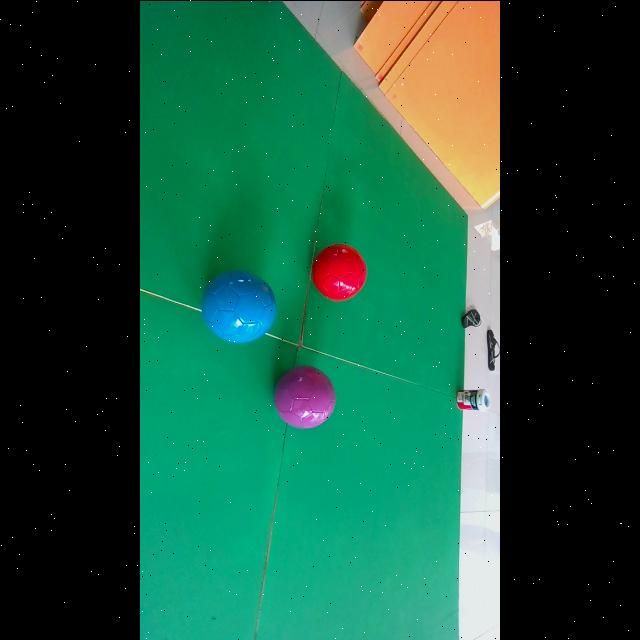B: (202, 269, 276, 342)
P: (275, 364, 335, 427)
R: (314, 244, 366, 299)
